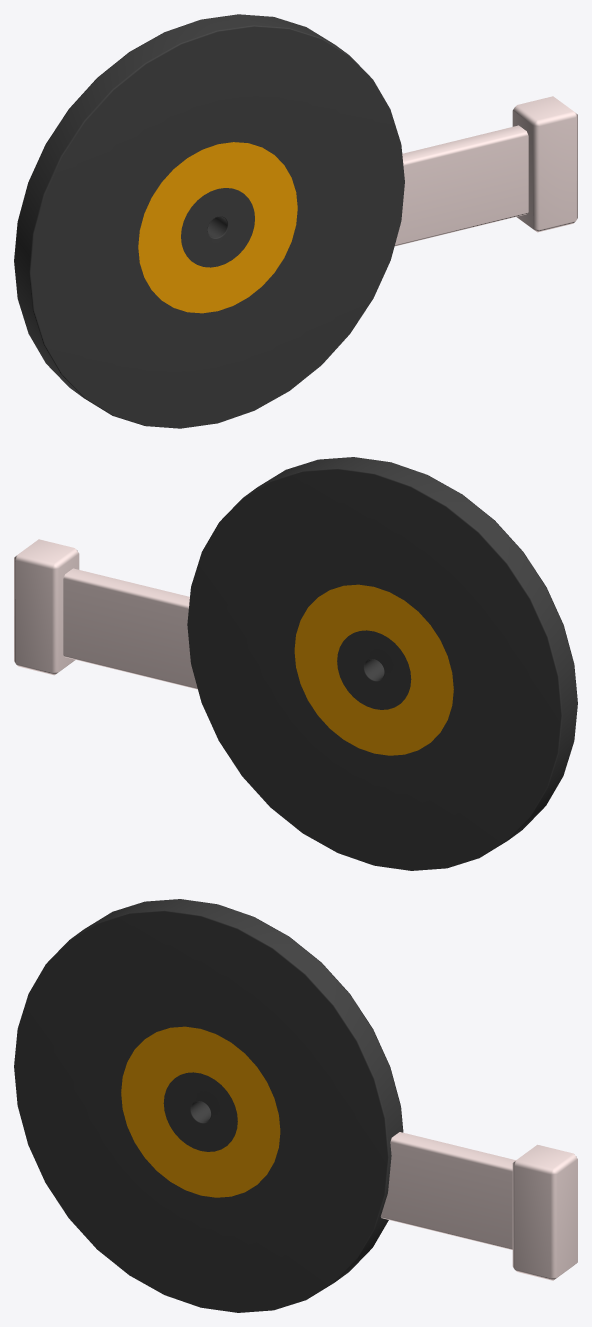
Rendered from Store_13_Vinyl_Sign_1.glb.
The picture shows the model from 3 angles, top to bottom: view 1: azimuth 30°, elevation 25°; view 2: azimuth 150°, elevation 25°; view 3: azimuth 330°, elevation 25°; orthographic projection.
Visible parts, largest first — view 1: Store_13_Vinyl_Sign_1; view 2: Store_13_Vinyl_Sign_1; view 3: Store_13_Vinyl_Sign_1.
Boxes of the visible parts, x1,y1,x2,y2 form: Store_13_Vinyl_Sign_1: [14, 14, 577, 428]; Store_13_Vinyl_Sign_1: [14, 457, 577, 870]; Store_13_Vinyl_Sign_1: [14, 899, 577, 1312].
Bounding box in the file's own units: 1.89 × 1.3 × 0.1528.
Materials: 1 (1 with a texture image).
